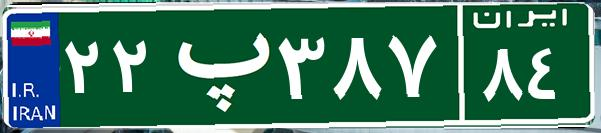2: (57, 26, 110, 107), (110, 28, 158, 105)
3: (273, 28, 330, 110)
4: (525, 38, 570, 115)
7: (385, 28, 445, 110)
8: (330, 28, 385, 110), (475, 38, 525, 113)
پ: (158, 15, 273, 115)
